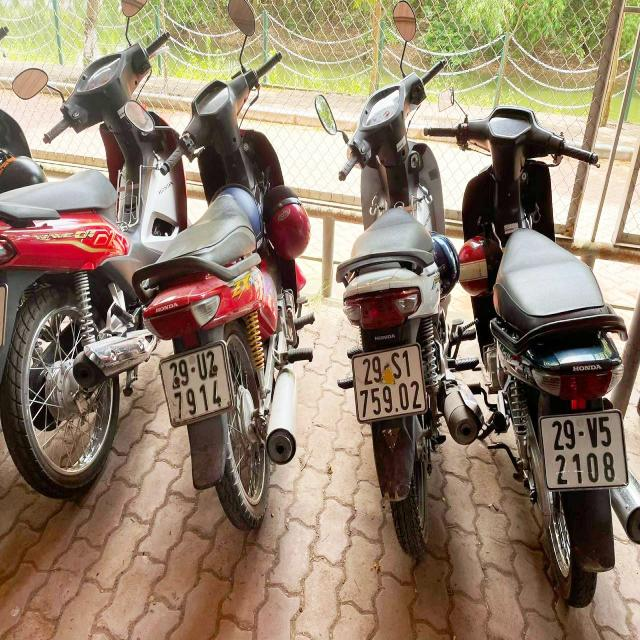license_plate: (539, 410, 632, 490), (161, 340, 235, 428), (353, 345, 427, 422)
